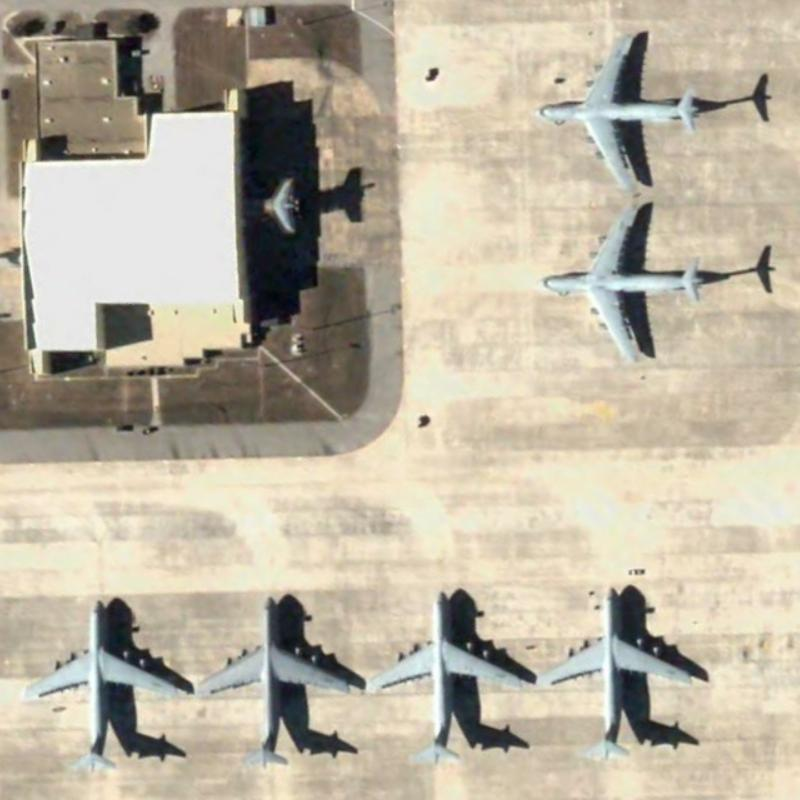A4: (17, 585, 192, 774), (364, 580, 536, 769), (192, 586, 365, 772), (524, 19, 703, 198), (527, 195, 713, 367), (538, 573, 707, 762)
